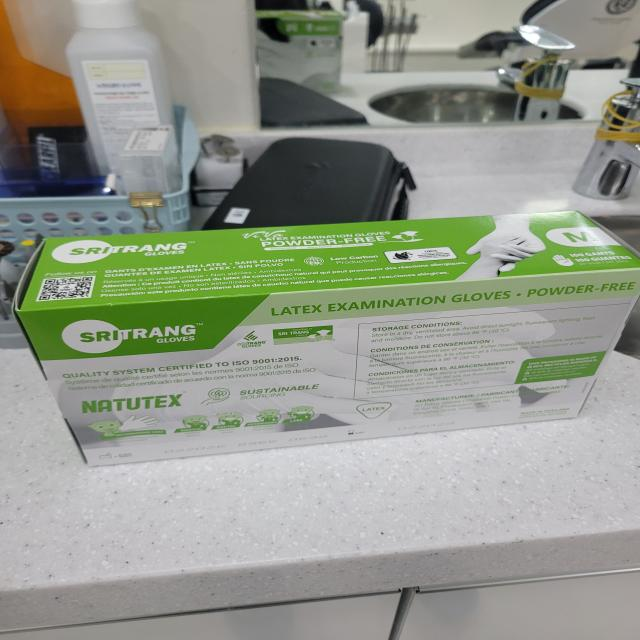glove: (8, 193, 640, 476)
